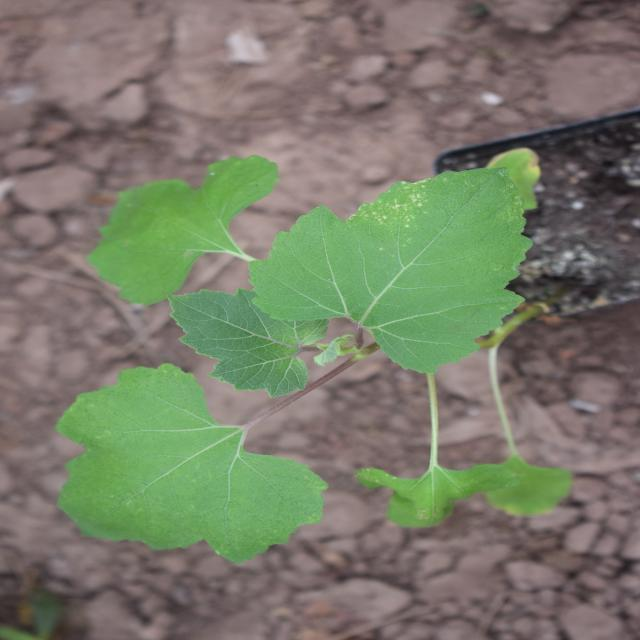cocklebur: (78, 34, 504, 534)
